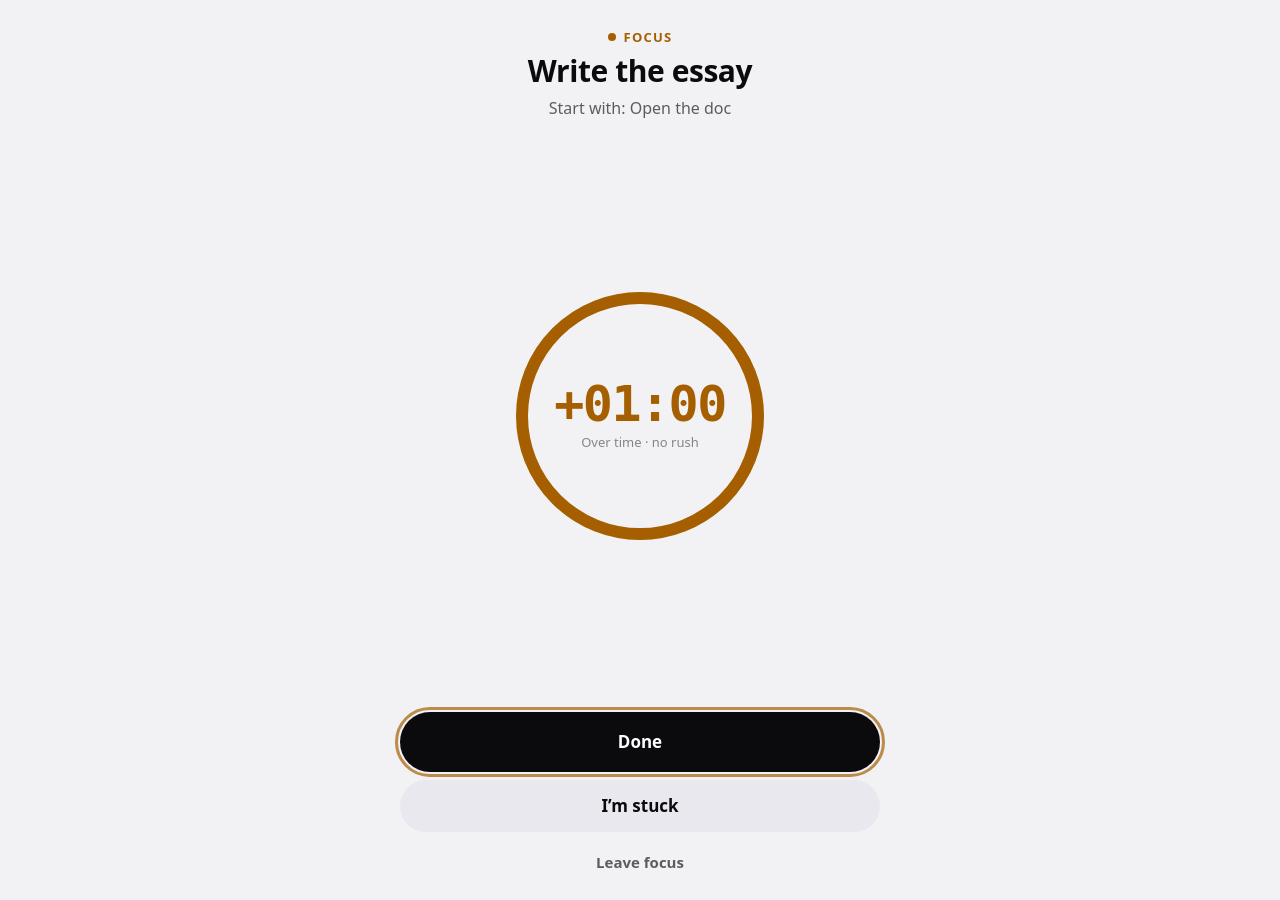
lock-in mode › keeps counting in the accent color after time is up, and pauses when the ring is tapped
Click the button with aria-label "Pause timer".
click(640, 416)  # box x1=516 y1=292 x2=764 y2=540
Wait 60000 ms
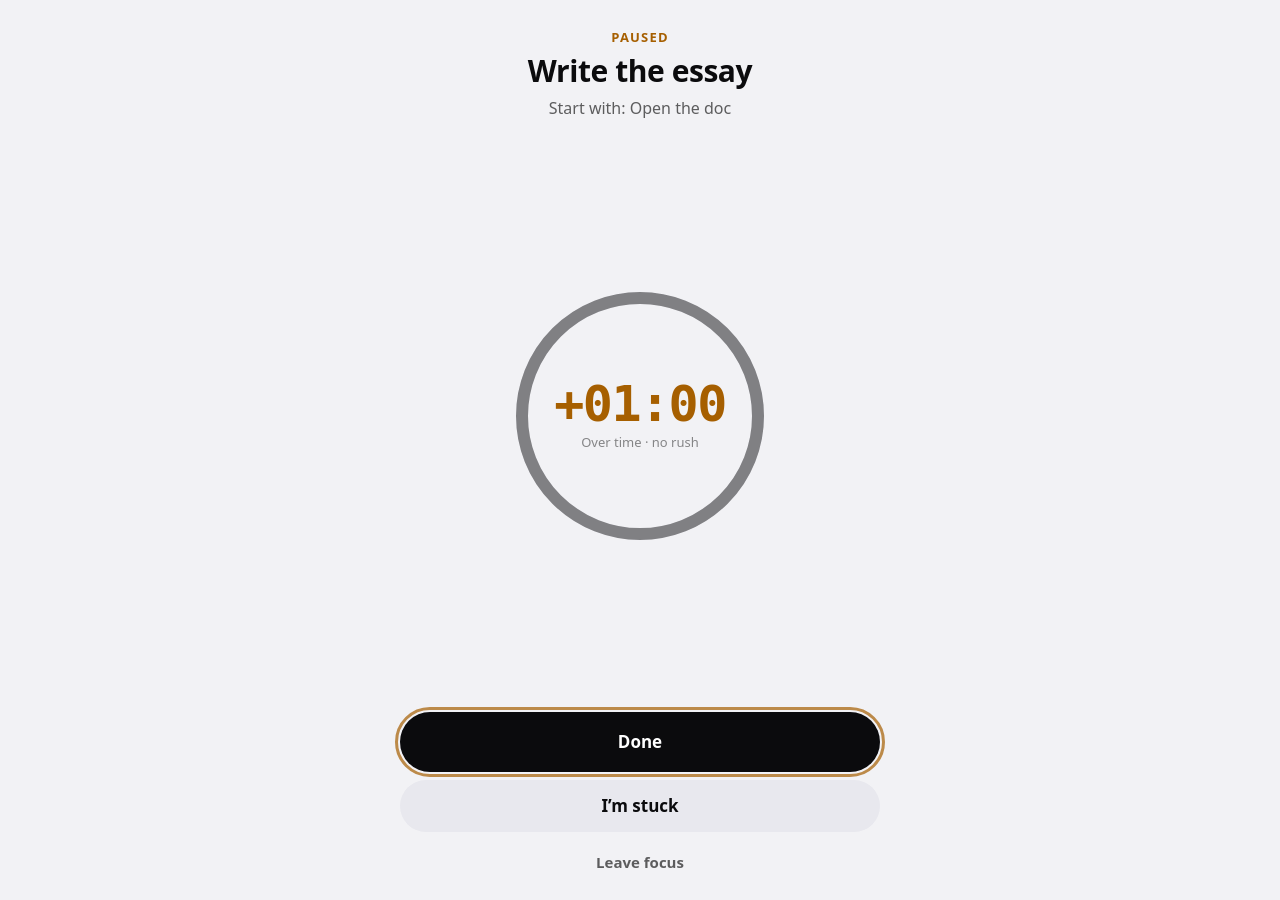
Check: the button with aria-label "Resume timer" is shown, box x1=516 y1=292 x2=764 y2=540
